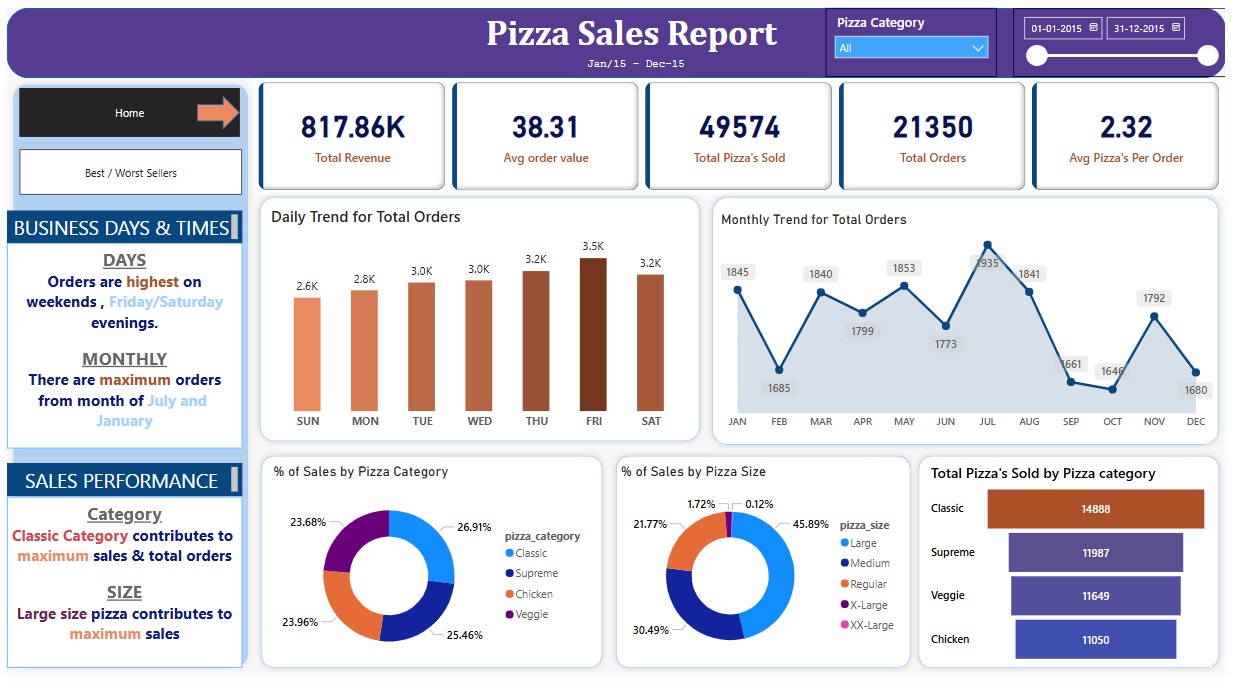

This screenshot's page, from the dashboard's own definition file:
{"tool":"powerbi","page":{"name":"Home","canvas":[1500,820],"ordinal":0},"visuals":[{"type":"cardVisual","fields":{"Data":["pizza_sales.Total Revenue","pizza_sales.Avg order value","pizza_sales.Total Pizza's Sold","pizza_sales.Total Orders","pizza_sales.Avg Pizza's Per Order"]},"box":[304.5,86.4,1195.5,143.9],"z":0},{"type":"shape","box":[0,0,1500,86.2],"z":1000},{"type":"textbox","box":[556.1,0,425.8,84.8],"z":2000},{"type":"shape","box":[303.6,224.5,557.6,316.7],"z":3000},{"type":"clusteredColumnChart","title":"Daily Trend for Total Orders","fields":{"Category":["pizza_sales.Order Day"],"Y":["pizza_sales.Total Orders"]},"box":[320.3,242.7,524.2,280.3],"z":4000},{"type":"shape","box":[860.6,224.2,639.4,321.2],"z":5000},{"type":"areaChart","title":"Monthly Trend for Total Orders","fields":{"Category":["pizza_sales.Order Month"],"Y":["pizza_sales.Total Orders"]},"box":[874.2,248.5,615.2,278.8],"z":6000},{"type":"shape","box":[304.5,542.4,436.4,277.3],"z":7000},{"type":"shape","box":[740.9,542.4,378.8,277.3],"z":8000},{"type":"shape","box":[1113.6,542.4,386.4,277.3],"z":9000},{"type":"donutChart","title":"% of Sales by Pizza Category","fields":{"Category":["pizza_sales.pizza_category"],"Y":["pizza_sales.Total Revenue"]},"box":[322.7,560.6,404.5,259.1],"z":10000},{"type":"donutChart","title":"% of Sales by Pizza Size","fields":{"Y":["pizza_sales.Total Revenue"],"Category":["pizza_sales.pizza_size"]},"box":[750,560.6,359.1,259.1],"z":11000},{"type":"funnel","title":"Total Pizza''s Sold by Pizza category","fields":{"Category":["pizza_sales.pizza_category"],"Y":["pizza_sales.Total Pizza's Sold"]},"box":[1131.8,560.6,351.5,251.5],"z":12000},{"type":"shape","box":[0,86.4,304.5,733.3],"z":13000},{"type":"textbox","box":[0,248.5,289.4,40.9],"z":14000},{"type":"textbox","box":[0,289.4,289.4,253],"z":15000},{"type":"textbox","box":[0,560.6,289.4,40.9],"z":16000},{"type":"textbox","box":[0,601.5,289.4,210.6],"z":17000},{"type":"slicer","fields":{"Values":["pizza_sales.pizza_category"]},"box":[1007.6,0,210.6,84.8],"z":18000},{"type":"slicer","fields":{"Values":["pizza_sales.order_date"]},"box":[1238.5,0,261.5,84.6],"z":19000},{"type":"pageNavigator","box":[15.2,98.5,271.2,60.6],"z":20000},{"type":"pageNavigator","box":[15.2,174.2,274.2,56.1],"z":21000},{"type":"textbox","box":[566.7,54.5,415.2,30.3],"z":22000},{"type":"shape","box":[233.3,107.6,53,42.4],"z":23000}]}

Visuals, with their boxes in screenshot pixels (x1, y1, x2, y2), scaled from the page's 1500x820 canvas onto the 1260x681 screenshot:
cardVisual - pizza_sales.Total Revenue x pizza_sales.Avg order value: <region>256, 72, 1259, 191</region>
shape: <region>0, 0, 1259, 72</region>
textbox: <region>467, 0, 825, 70</region>
shape: <region>255, 186, 723, 449</region>
"Daily Trend for Total Orders" clusteredColumnChart: <region>269, 202, 709, 434</region>
shape: <region>723, 186, 1259, 453</region>
"Monthly Trend for Total Orders" areaChart: <region>734, 206, 1251, 438</region>
shape: <region>256, 450, 622, 680</region>
shape: <region>622, 450, 941, 680</region>
shape: <region>935, 450, 1259, 680</region>
"% of Sales by Pizza Category" donutChart: <region>271, 466, 611, 680</region>
"% of Sales by Pizza Size" donutChart: <region>630, 466, 932, 680</region>
"Total Pizza''s Sold by Pizza category" funnel: <region>951, 466, 1246, 674</region>
shape: <region>0, 72, 256, 680</region>
textbox: <region>0, 206, 243, 240</region>
textbox: <region>0, 240, 243, 450</region>
textbox: <region>0, 466, 243, 500</region>
textbox: <region>0, 500, 243, 674</region>
slicer - pizza_sales.pizza_category: <region>846, 0, 1023, 70</region>
slicer - pizza_sales.order_date: <region>1040, 0, 1259, 70</region>
pageNavigator: <region>13, 82, 241, 132</region>
pageNavigator: <region>13, 145, 243, 191</region>
textbox: <region>476, 45, 825, 70</region>
shape: <region>196, 89, 240, 125</region>
